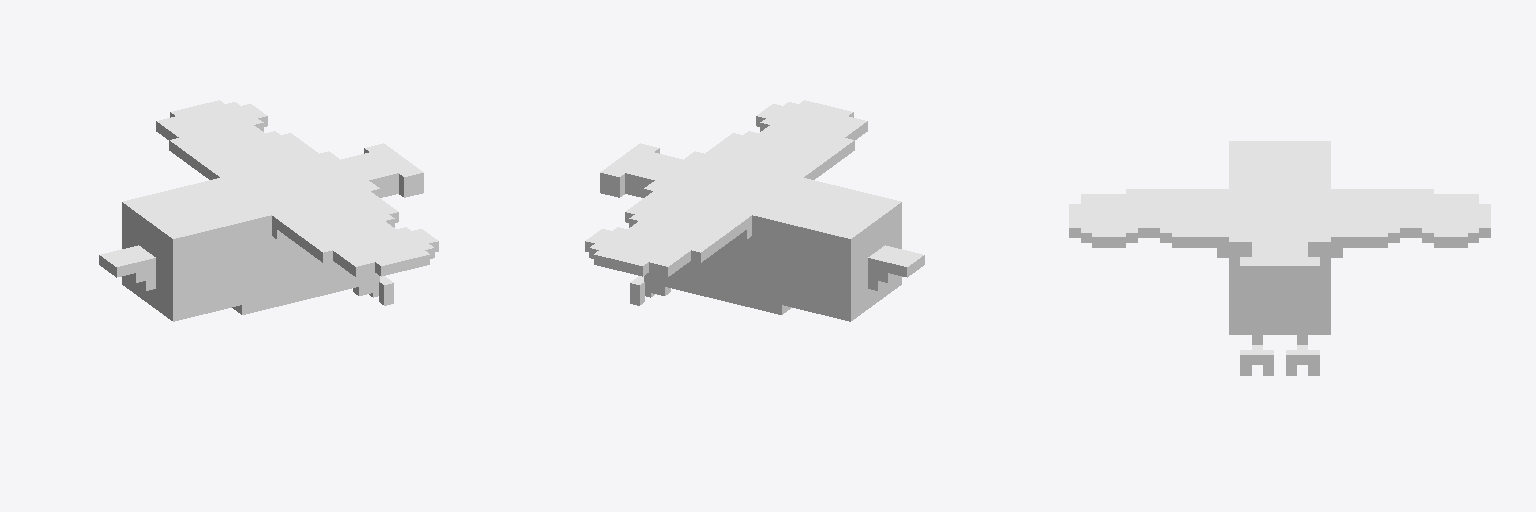
The model's file is canus.obj.
3 renders of one model, left to right at view 1: azimuth 30°, elevation 25°; view 2: azimuth 150°, elevation 25°; view 3: azimuth 270°, elevation 25°, orthographic.
Parts seen in each view (by area): view 1: Larus_canus; view 2: Larus_canus; view 3: Larus_canus.
Boxes of the visible parts, x1,y1,x2,y2 form: Larus_canus: [99, 100, 438, 321]; Larus_canus: [585, 100, 924, 321]; Larus_canus: [1069, 141, 1490, 375].
Size of the model in its own units: 3 by 1.2 by 3.7.